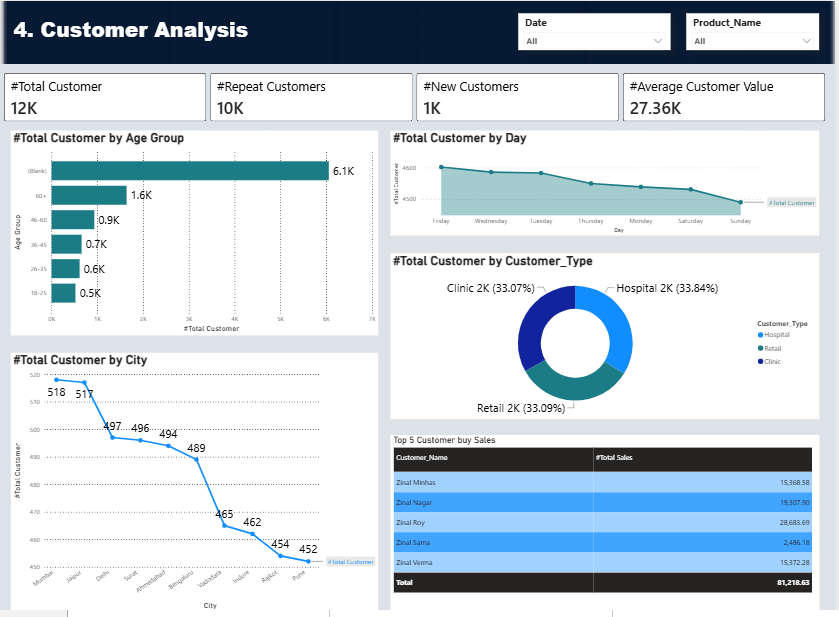

The page's visual inventory and layout, read from the dashboard file:
{"tool":"powerbi","page":{"name":"4. Customer Analysis","canvas":[1600,1200],"ordinal":4},"visuals":[{"type":"image","box":[0,0,1600,120],"z":0},{"type":"textbox","title":" 4. Customer Analysis","box":[30,26.7,493.3,93.3],"z":1000},{"type":"slicer","fields":{"Values":["Dim_Date_Clean.Date"]},"box":[996.7,23.3,290,70],"z":2000},{"type":"slicer","fields":{"Values":["Dim_Product.Product_Name"]},"box":[1316.7,23.3,253.3,70],"z":3000},{"type":"cardVisual","fields":{"Data":["Fact_Sales_Clean (1).#Total Customer","Fact_Sales_Clean (1).#Repeat Customers","Fact_Sales_Clean (1).#New Customers","Fact_Sales_Clean (1).#Average Customer Value"]},"box":[0,120,1600,126.7],"z":4000},{"type":"clusteredBarChart","fields":{"Category":["Dim_Customer.Age Group"],"Y":["Fact_Sales_Clean (1).#Total Customer"]},"box":[30,246.7,700,390],"z":5000},{"type":"areaChart","fields":{"Category":["Dim_Customer.City"],"Y":["Fact_Sales_Clean (1).#Total Customer"]},"box":[30,670,700,493.3],"z":6000},{"type":"donutChart","fields":{"Category":["Dim_Customer.Customer_Type"],"Y":["Fact_Sales_Clean (1).#Total Customer"]},"box":[753.3,480,816.7,316.7],"z":7000},{"type":"areaChart","fields":{"Category":["Dim_Date_Clean.Day"],"Y":["Fact_Sales_Clean (1).#Total Customer"]},"box":[753.3,246.7,816.7,200],"z":8000},{"type":"tableEx","title":"Top 5 Customer buy Sales","fields":{"Values":["Dim_Customer.Customer_Name","Fact_Sales_Clean (1).#Total Sales"]},"box":[753,827,817,336],"z":9000}]}

Visuals, with their boxes in screenshot pixels (x1, y1, x2, y2), scaled from the page's 1600x1200 canvas onto the 839x617 screenshot:
image: 0/0/838/62
" 4. Customer Analysis" textbox: 16/14/274/62
slicer - Dim_Date_Clean.Date: 523/12/675/48
slicer - Dim_Product.Product_Name: 690/12/823/48
cardVisual - Fact_Sales_Clean (1).#Total Customer x Fact_Sales_Clean (1).#Repeat Customers: 0/62/838/127
clusteredBarChart - Dim_Customer.Age Group x Fact_Sales_Clean (1).#Total Customer: 16/127/383/327
areaChart - Dim_Customer.City x Fact_Sales_Clean (1).#Total Customer: 16/344/383/598
donutChart - Dim_Customer.Customer_Type x Fact_Sales_Clean (1).#Total Customer: 395/247/823/410
areaChart - Dim_Date_Clean.Day x Fact_Sales_Clean (1).#Total Customer: 395/127/823/230
"Top 5 Customer buy Sales" tableEx: 395/425/823/598
